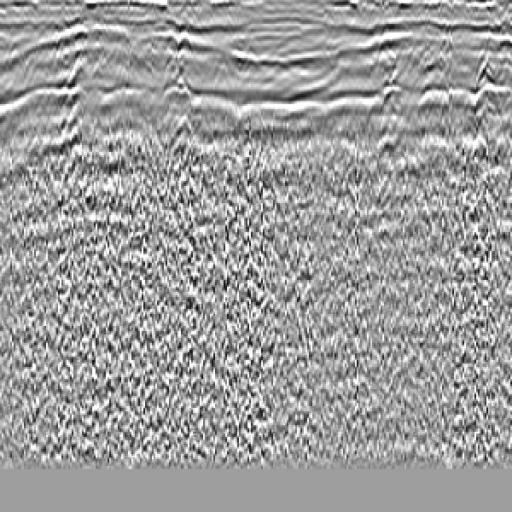non-metallic: (160, 15, 211, 274), (48, 69, 107, 274)
